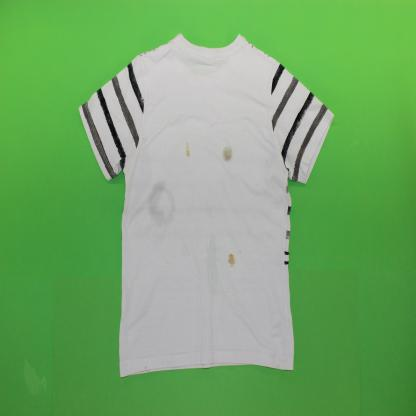stain: (141, 177, 179, 234), (220, 142, 236, 166), (226, 251, 238, 270), (183, 137, 192, 161)
